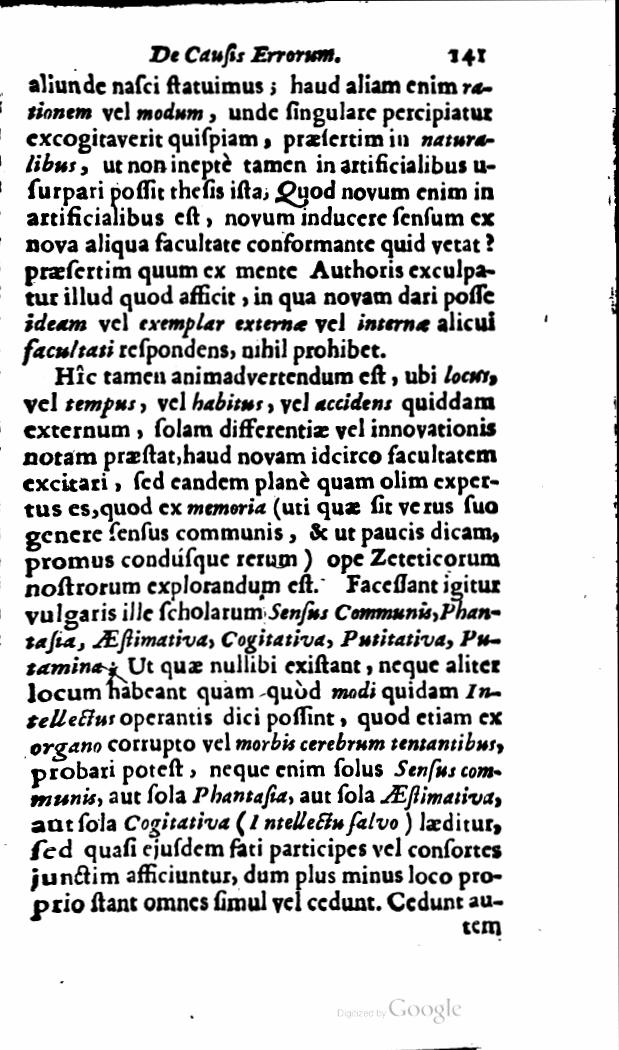bottom_p: (21, 70, 497, 363)
catchword: (460, 914, 503, 939)
header: (147, 40, 344, 69)
page_num: (447, 44, 487, 67)
top_p: (21, 361, 504, 917)
